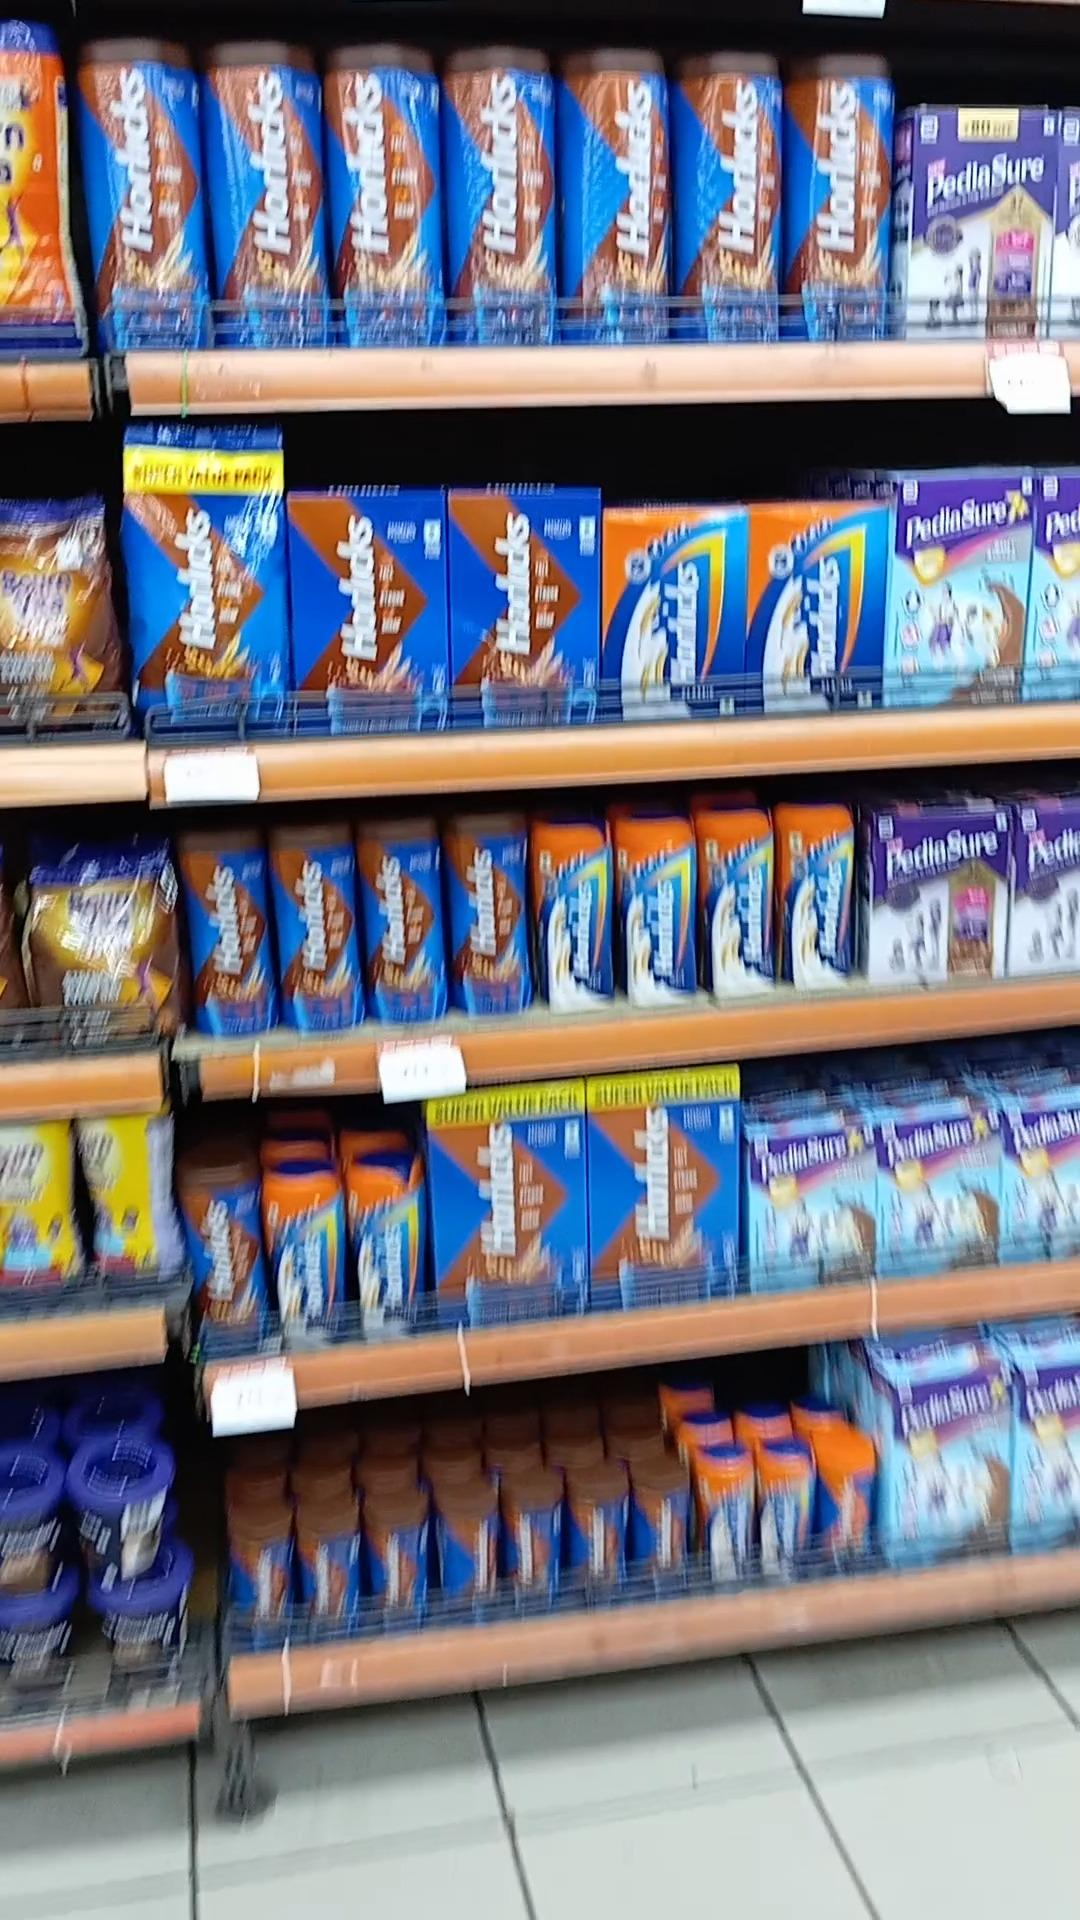BOURN_VITA_CHAMPS_500_G_JAR: (0, 1112, 75, 1313), (74, 1118, 161, 1291)
BOURN_VITA_FIVE_STAR_MAGIC_500_G_JAR: (0, 492, 107, 737), (33, 856, 162, 1050)
HORLICK_CHOCOLATE_1_KG_JAR: (76, 38, 198, 361), (203, 32, 316, 349), (556, 42, 673, 345), (443, 45, 549, 349), (328, 38, 431, 347), (789, 47, 891, 340), (680, 49, 782, 344)
HORLICK_CHOCOLATE_1_KG_PACK: (429, 1091, 585, 1323), (589, 1076, 742, 1311)
HORLICK_CHOCOLATE_200_G_JAR: (227, 1516, 286, 1669), (500, 1476, 556, 1610), (301, 1516, 355, 1651), (638, 1474, 691, 1597), (363, 1502, 425, 1606), (439, 1506, 491, 1626), (571, 1476, 616, 1613)
HORLICK_CHOCOLATE_500_G_JAR: (183, 827, 270, 1040), (181, 1153, 261, 1364), (361, 819, 440, 1027), (447, 819, 527, 1018), (278, 827, 352, 1034)
HORLICK_CHOCOLATE_500_G_PACK: (290, 495, 444, 731), (450, 498, 597, 731)
HORLICK_CHOCOLATE_750_G_POUCH: (125, 422, 282, 732)
HORLICK_CLASSIC_MALT_200_G_JAR: (698, 1445, 753, 1594), (756, 1441, 810, 1584)
HORLICK_CLASSIC_MALT_500_G_JAR: (535, 812, 615, 1022), (698, 816, 773, 1007), (621, 815, 694, 1013), (783, 800, 857, 993)
HORLICK_CLASSIC_MALT_500_G_PACK: (604, 510, 745, 723), (748, 504, 877, 713)
PEDIASURE_7_PLUS_CHOCOLATE_400_G_PACK: (894, 477, 1014, 707), (898, 1375, 1006, 1561), (874, 1116, 993, 1280), (752, 1130, 870, 1290), (1013, 1358, 1080, 1567), (1001, 1098, 1080, 1266)
PEDIASURE_CHOCOLATE_500_G_PACK: (909, 102, 1054, 342), (869, 808, 1007, 994)
